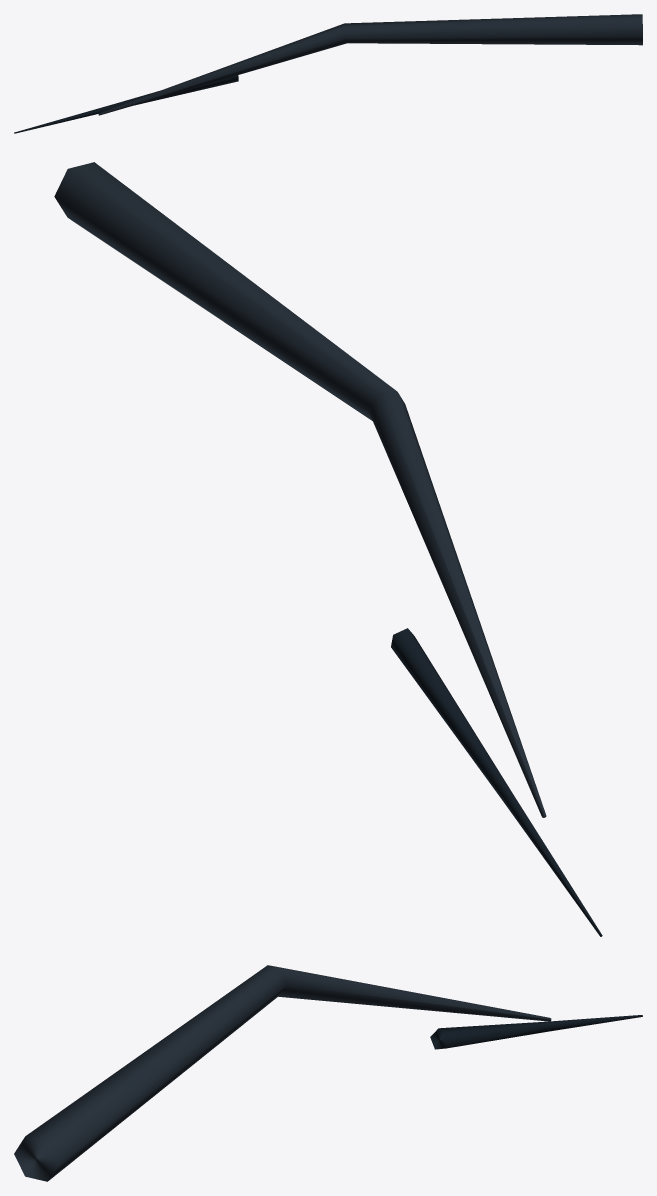
File: L_Wing_Finger_1.obj
The picture shows the model from 3 angles, top to bottom: view 1: azimuth 30°, elevation 25°; view 2: azimuth 150°, elevation 25°; view 3: azimuth 270°, elevation 25°; orthographic projection. The views are drawn at different scales.
Visible parts, largest first — view 1: L_Wing_Finger_1; view 2: L_Wing_Finger_1; view 3: L_Wing_Finger_1.
Boxes of the visible parts, bbox=[...] form: L_Wing_Finger_1: bbox=[14, 14, 642, 133]; L_Wing_Finger_1: bbox=[54, 162, 602, 936]; L_Wing_Finger_1: bbox=[14, 965, 642, 1181].
Bounding box in the file's own units: 6.69 × 2.02 × 4.91.
